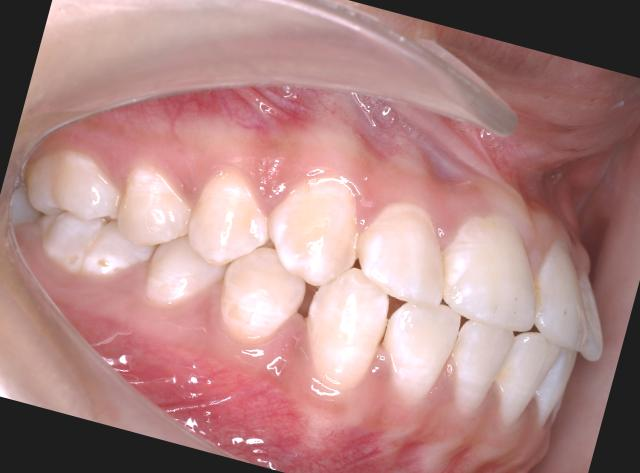canine class I: (194, 151, 423, 412)
molar class III 1/4: (7, 132, 175, 293)
